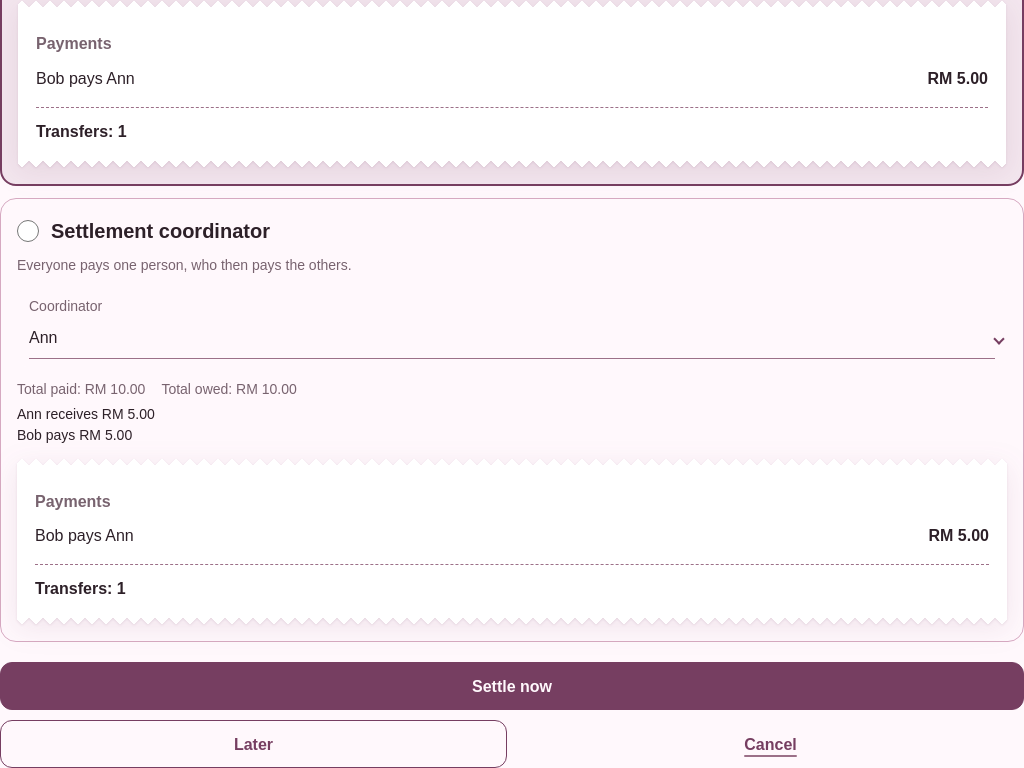
SettlementRoute › preview › only the dialog confirm settles, with the loaded revision, then opens payments
(page scrolled)
Click the button "Settle now" at (512, 686), box [0, 662, 1023, 710]
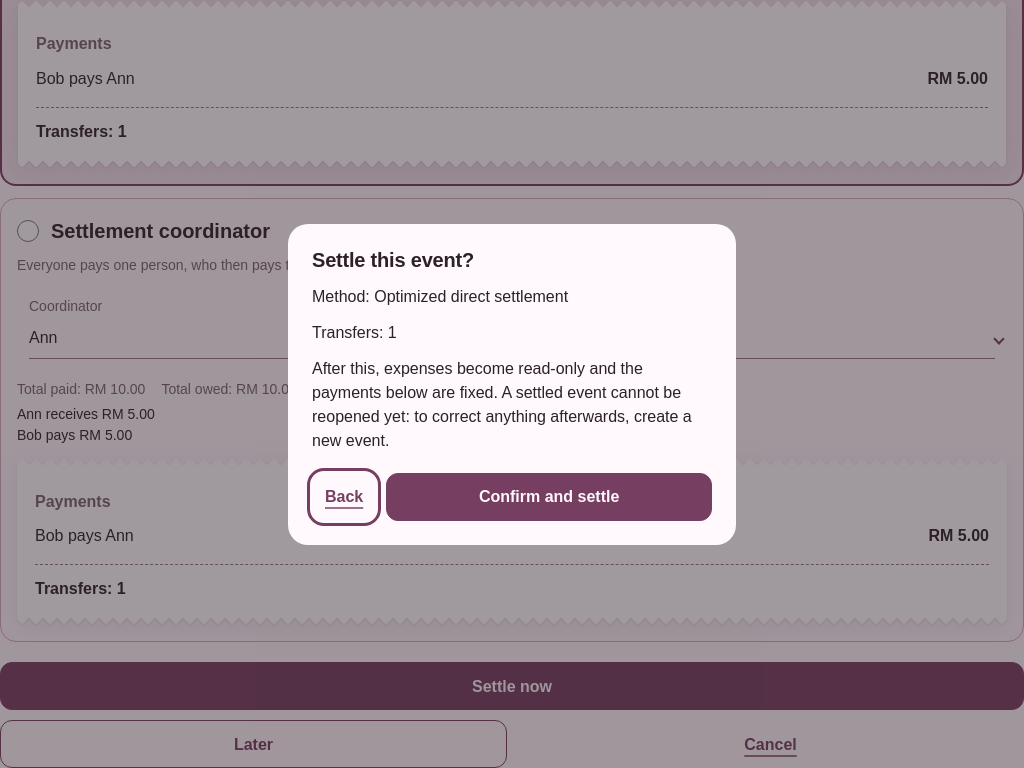
Click the button "Confirm and settle" at (549, 496), box [386, 472, 712, 520]
(page scrolled)
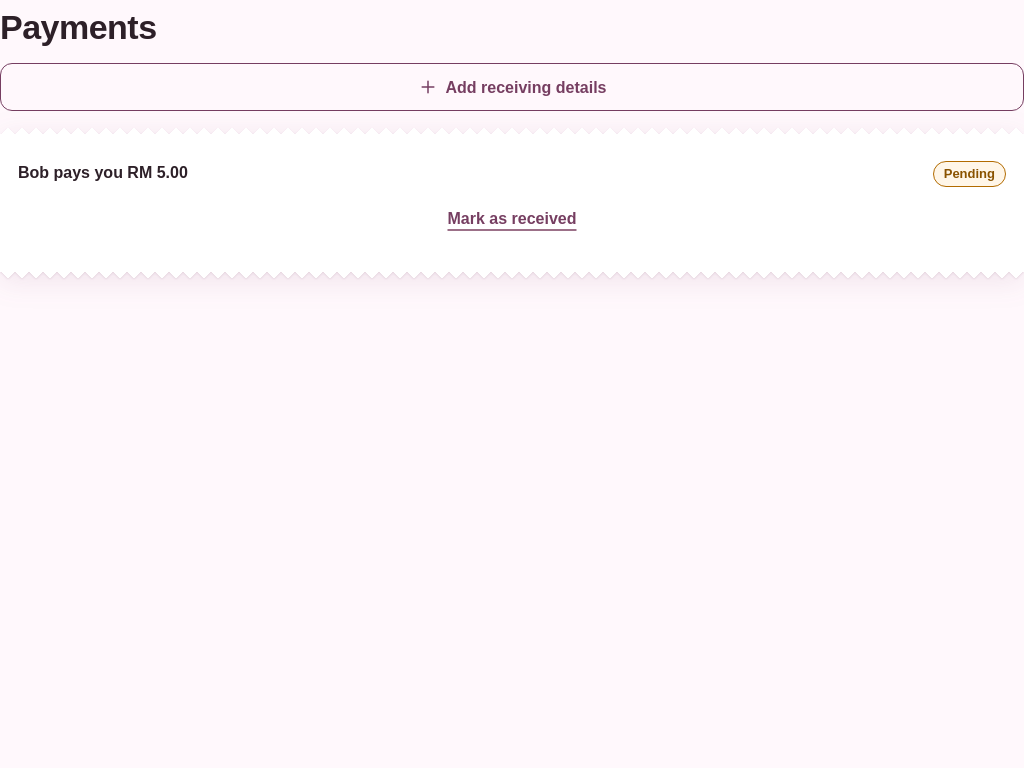
Now the heading "Payments" is shown, box [0, 8, 157, 46]
